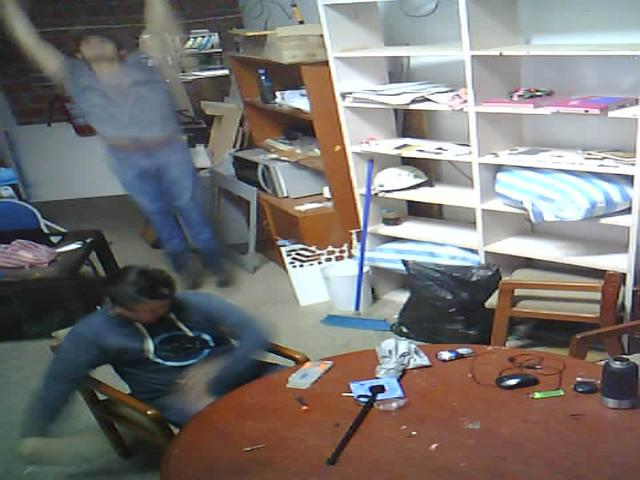person: (0, 0, 268, 298), (6, 249, 326, 480)
